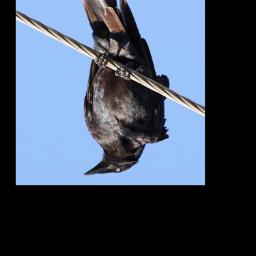Crow: (80, 0, 170, 178)
